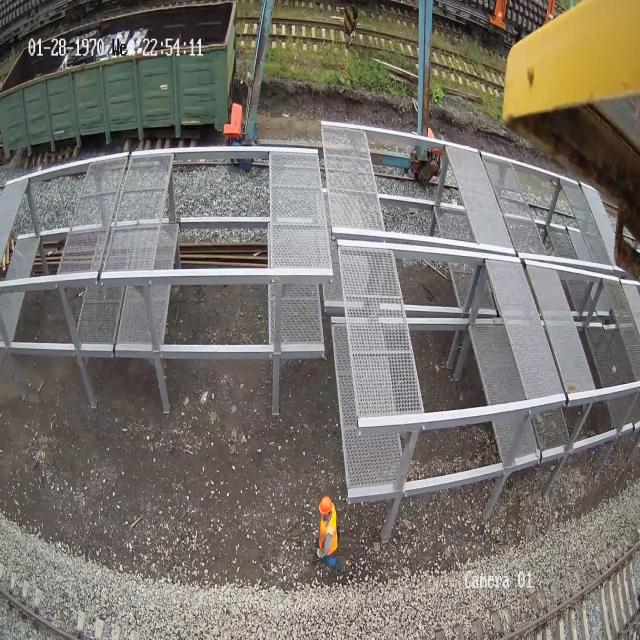Helmet: (318, 495, 332, 515)
Person: (314, 495, 339, 570)
